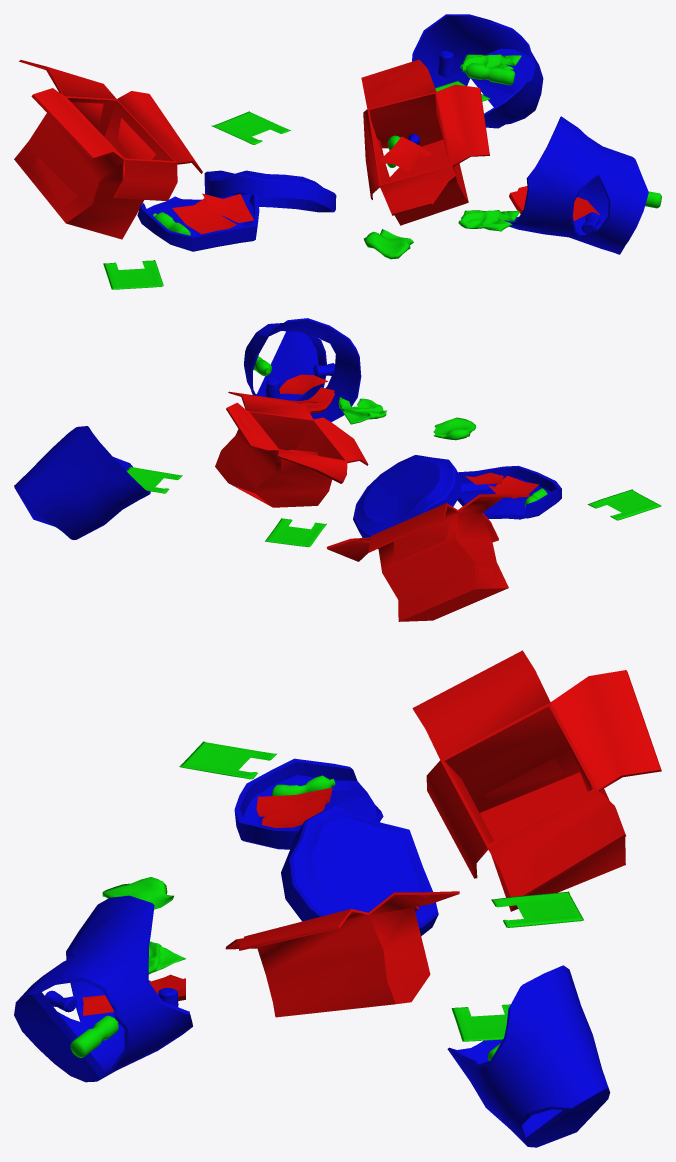
File: SM_Garbage_03.FBX
3 renders of one model, top to bottom at view 1: azimuth 30°, elevation 25°; view 2: azimuth 150°, elevation 25°; view 3: azimuth 270°, elevation 25°, orthographic. The views are drawn at different scales.
Parts seen in each view (by area): view 1: Bag_34; view 2: Bag_34; view 3: Bag_34.
Part boxes in pixels (<box>): Bag_34: <box>14,14,661,289</box>; Bag_34: <box>14,318,661,621</box>; Bag_34: <box>14,650,661,1147</box>.
Bounding box in the file's own units: 848 × 658 × 234.
